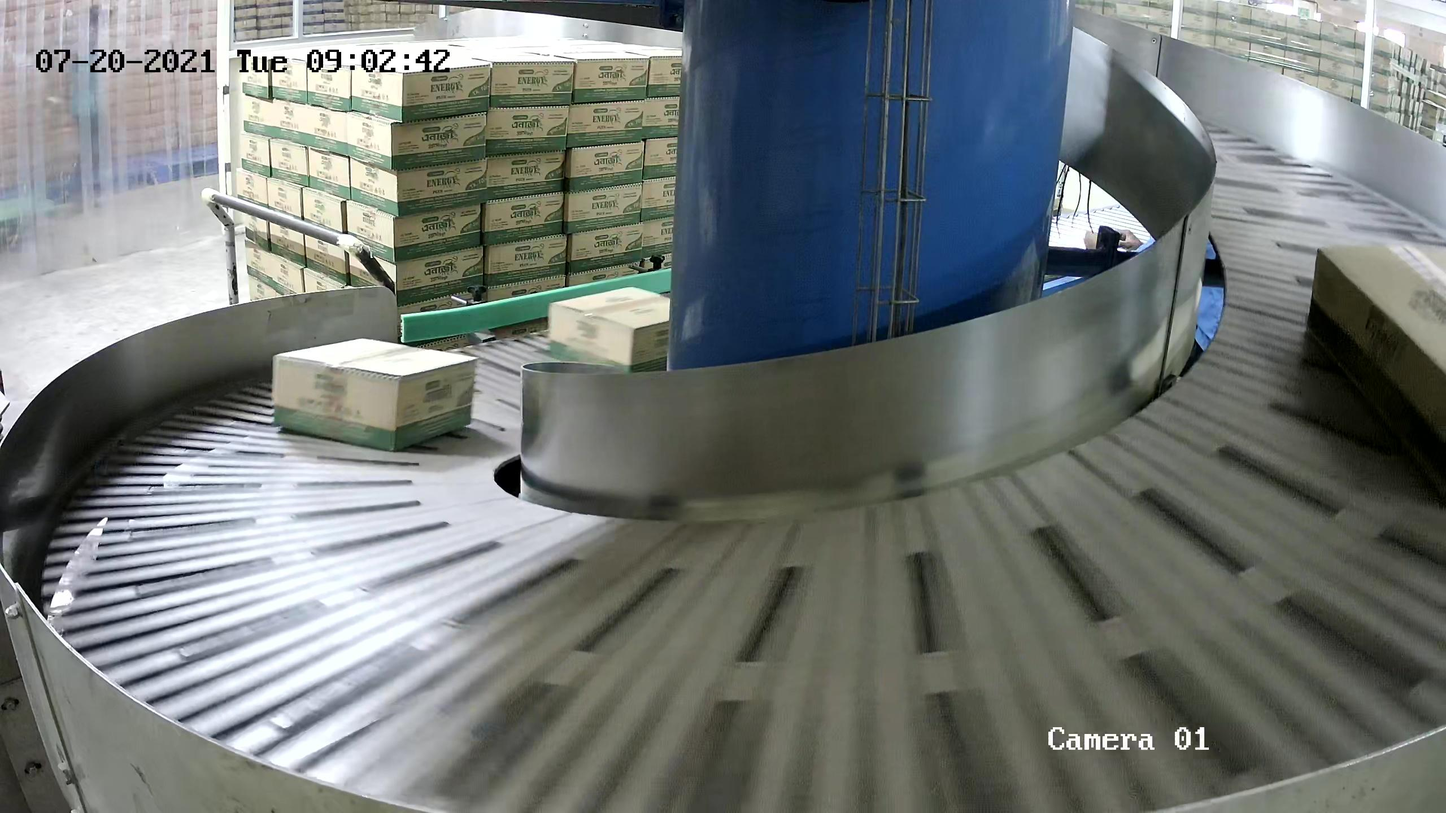Box: (1304, 242, 1446, 507), (272, 336, 478, 454), (548, 287, 699, 381)
